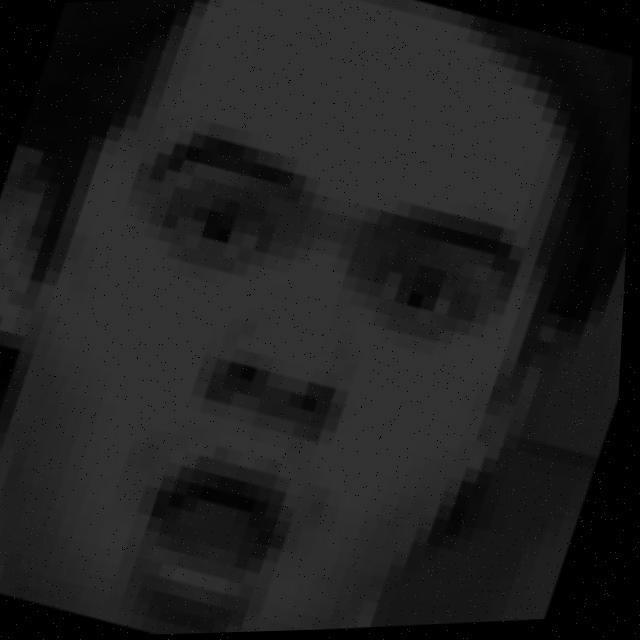Surprised: (35, 51, 545, 640)
